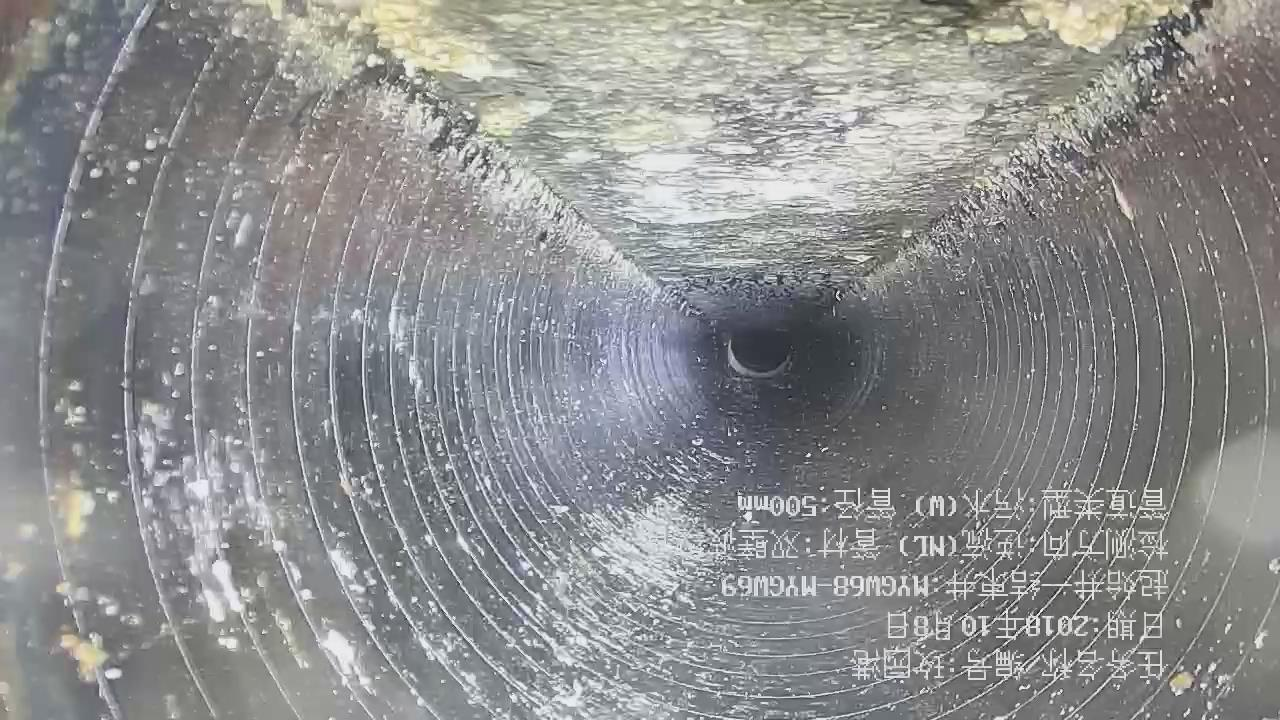FZ: (341, 1, 1178, 324)
